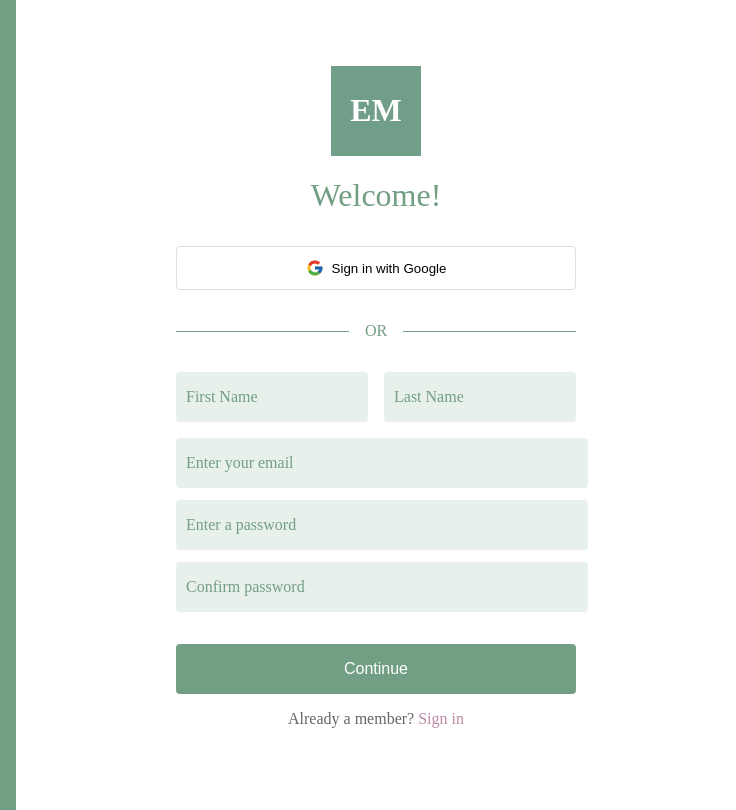
Test: Register Component › should display error message on failed registration
Type "Test" into the field with placeholder "First Name" at (272, 397), box [176,372,368,422]
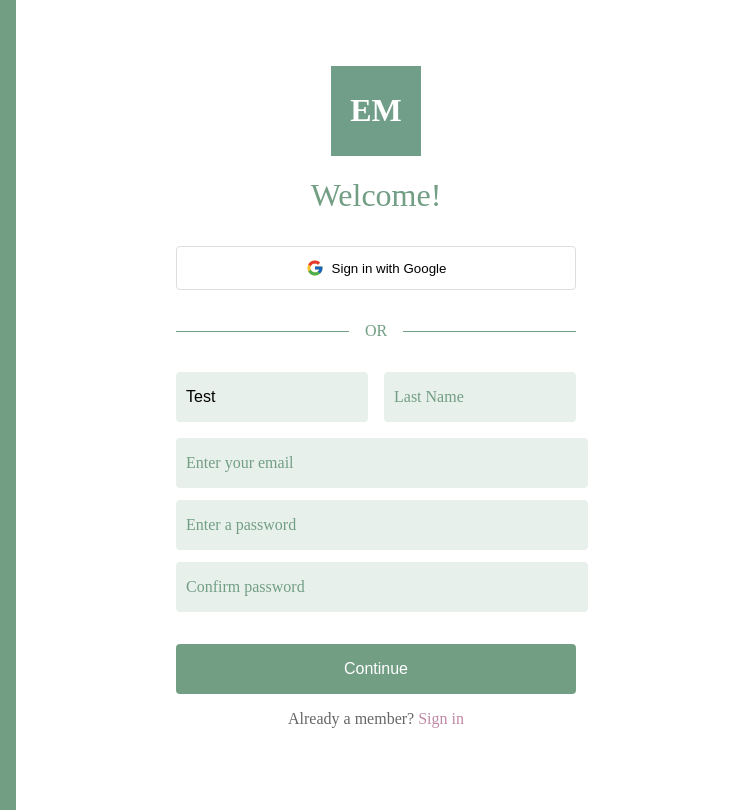
Type "User" into the field with placeholder "Last Name" at (480, 397), box [384,372,576,422]
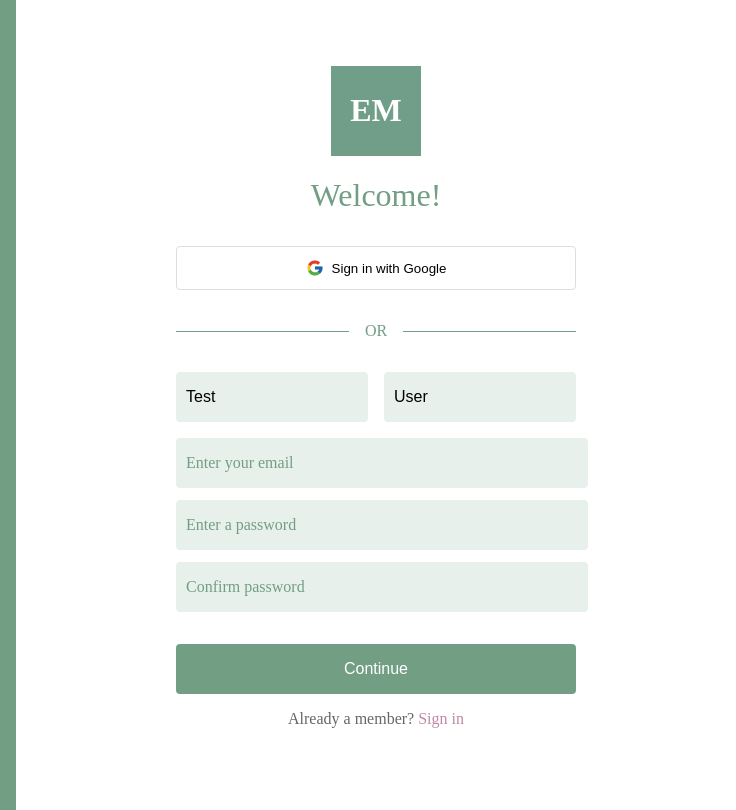
Type "test@example.com" into the field with placeholder "Enter your email" at (382, 463), box [176,438,588,488]
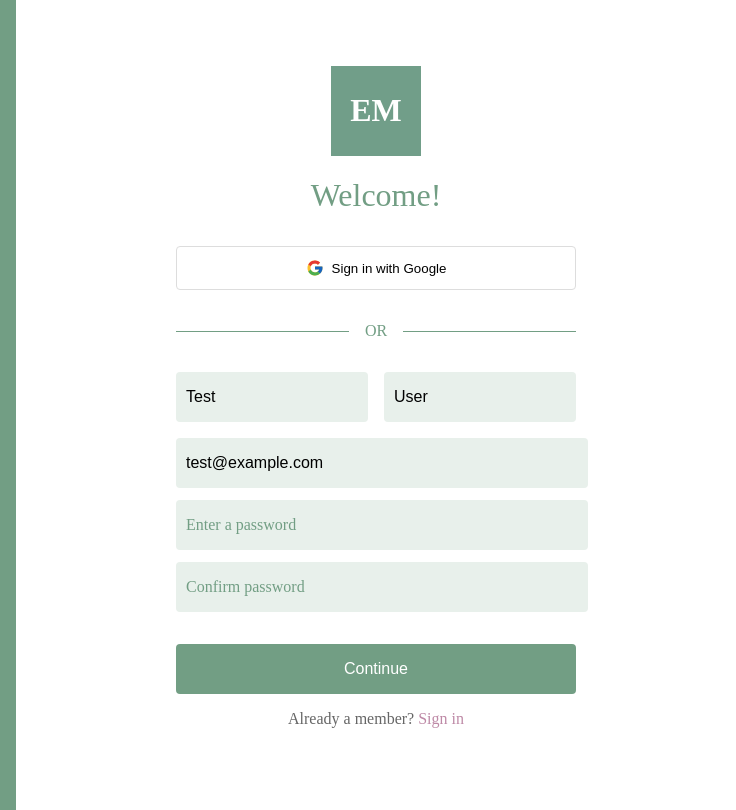
Type "password123" into the password field with placeholder "Enter a password" at (382, 525), box [176,500,588,550]
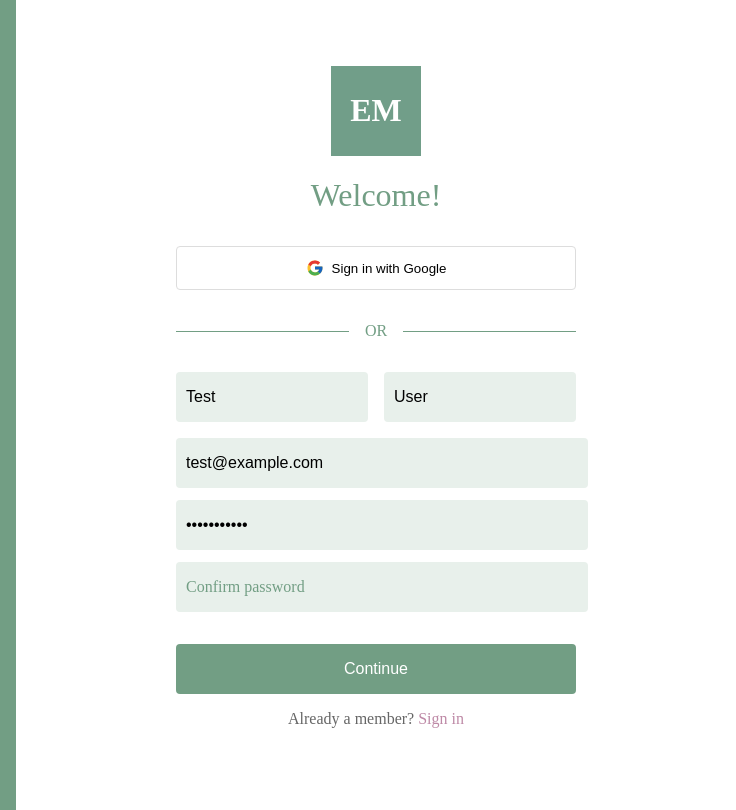
Type "password123" into the password field with placeholder "Confirm password" at (382, 587), box [176,562,588,612]
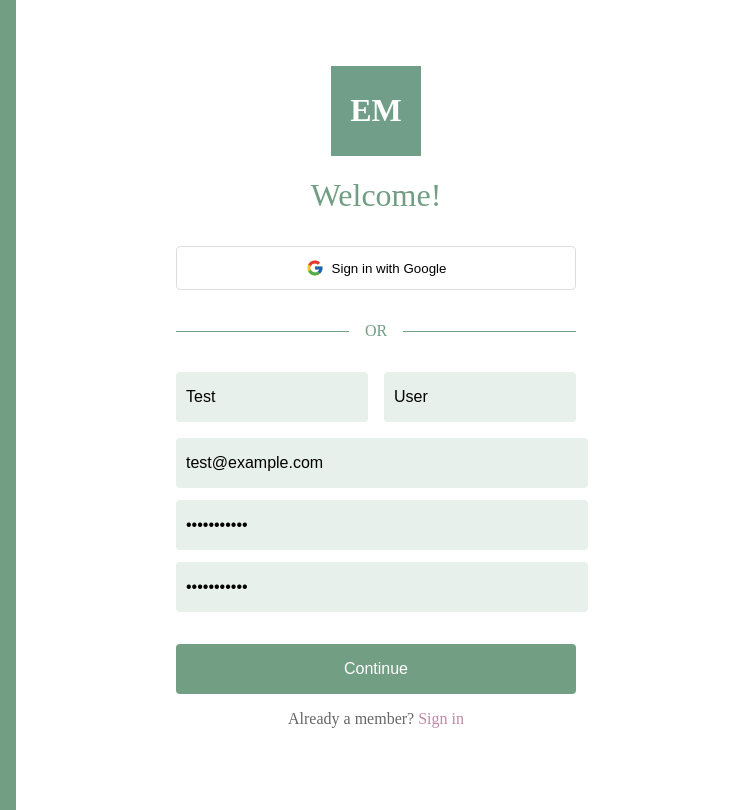
Click the button "Continue" at (376, 669), box [176,644,576,694]
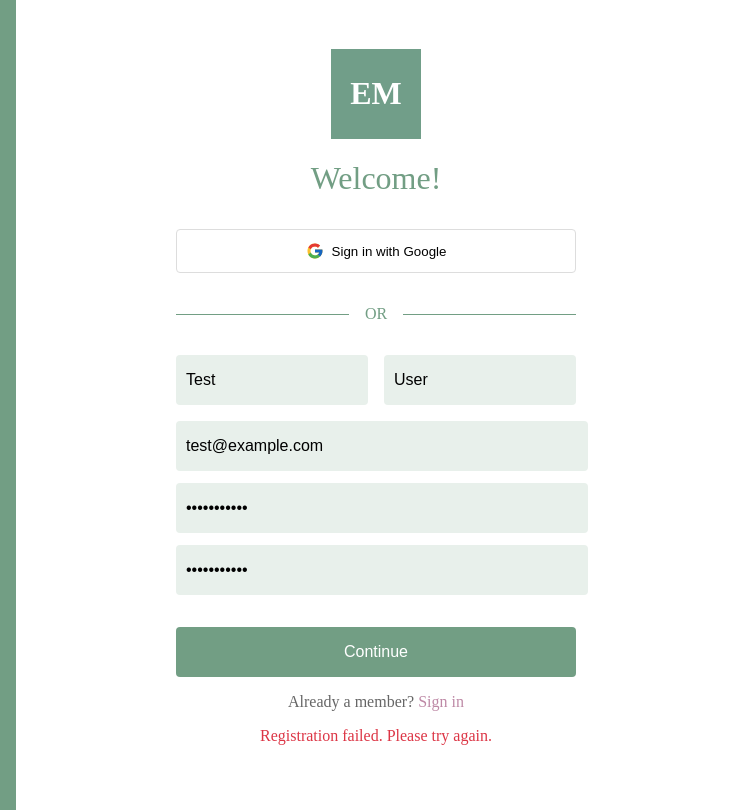
Check: the text "Registration failed. Please try again." is shown, box [260,727,492,744]
